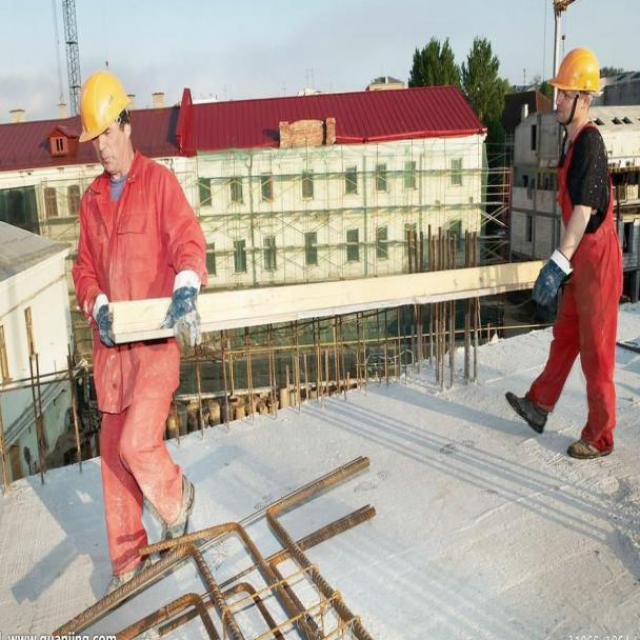gloves: (521, 242, 574, 306), (159, 281, 202, 353), (89, 289, 117, 344)
helmet: (75, 62, 140, 178), (552, 21, 605, 142)
vest: (78, 182, 198, 389), (554, 139, 618, 438)
